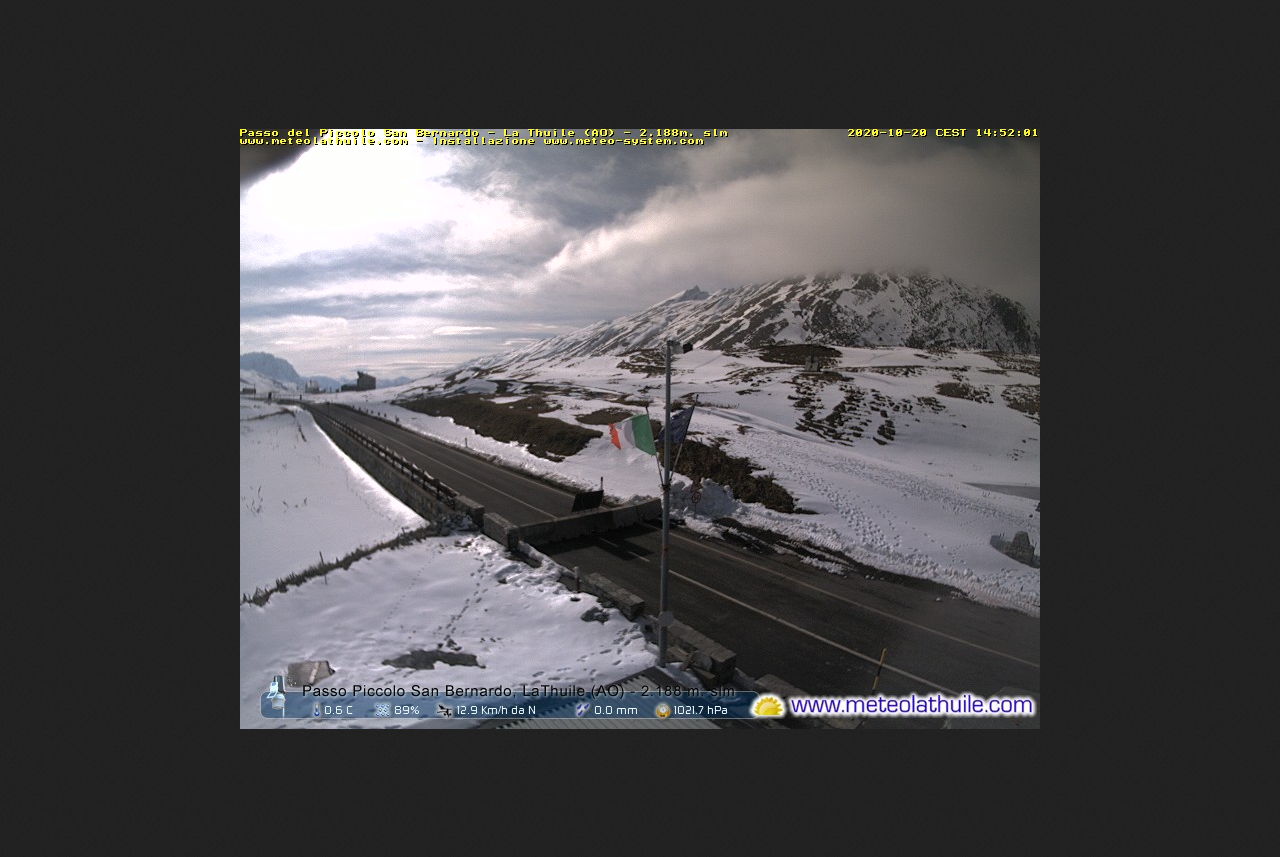maybe: (655, 401, 693, 472)
yes: (600, 409, 658, 458)
